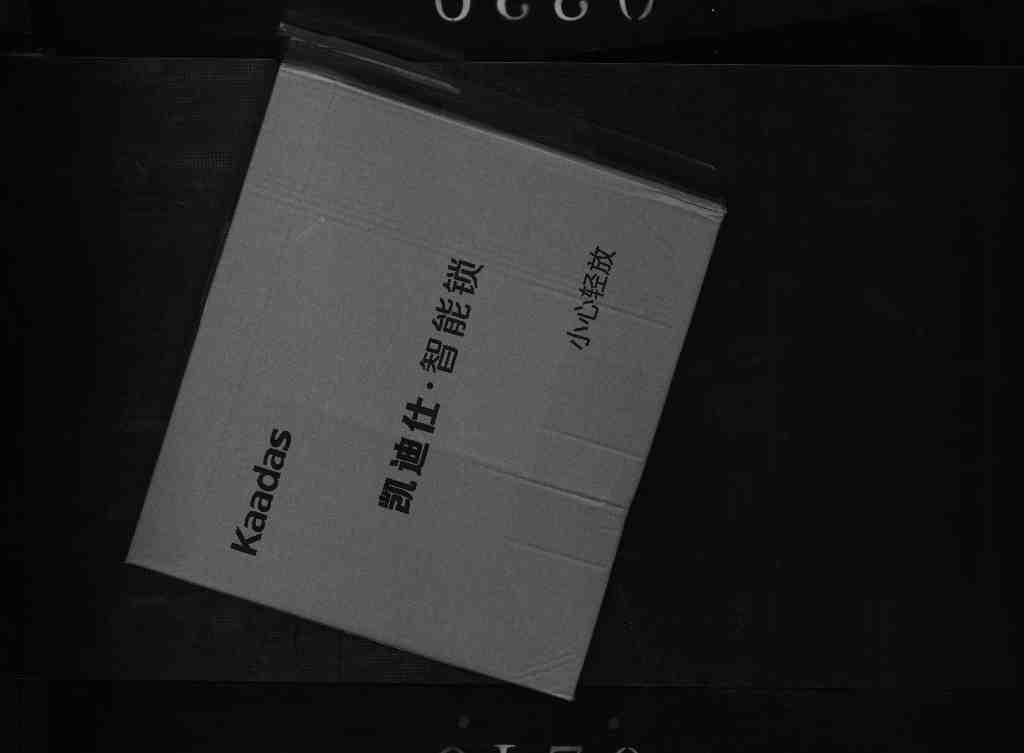box: (119, 49, 736, 717)
